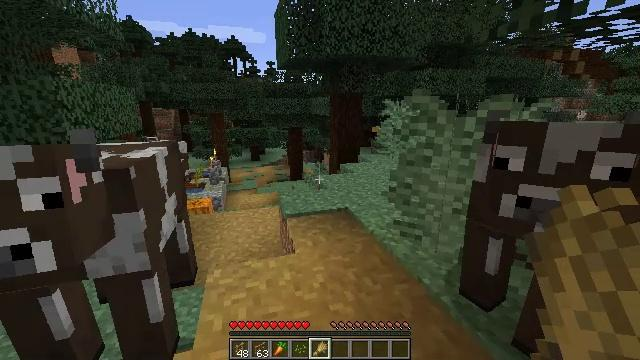cow: (0, 135, 198, 360), (477, 119, 640, 344)
